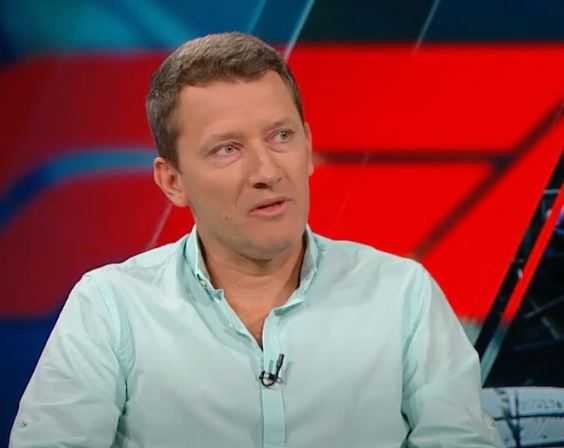mole: (220, 210, 232, 225)
